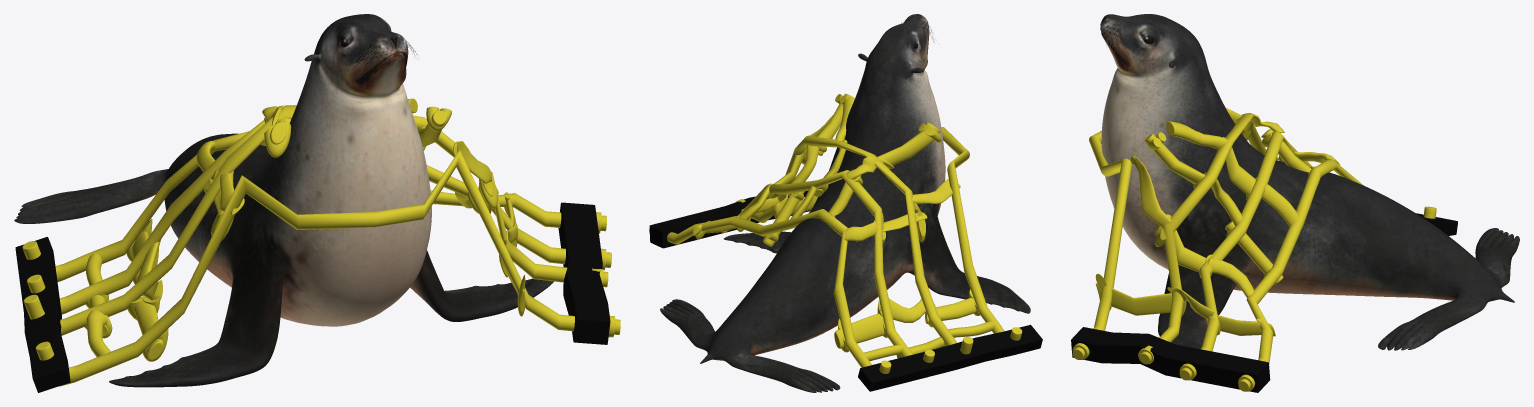
Rendered from sealion.fbx.
3 renders of one model, left to right at view 1: azimuth 30°, elevation 25°; view 2: azimuth 150°, elevation 25°; view 3: azimuth 270°, elevation 25°, orthographic. The views are drawn at different scales.
Visible parts, largest first — view 1: 10041_sealion_v1_L3, 18853 Cargo Net Ladder_v1; view 2: 10041_sealion_v1_L3, 18853 Cargo Net Ladder_v1; view 3: 10041_sealion_v1_L3, 18853 Cargo Net Ladder_v1.
Boxes of the visible parts, box(x1,y1,x2,y2) form: 10041_sealion_v1_L3: box(14, 14, 553, 387); 18853 Cargo Net Ladder_v1: box(15, 98, 620, 392); 10041_sealion_v1_L3: box(660, 14, 1030, 392); 18853 Cargo Net Ladder_v1: box(649, 93, 1042, 391); 10041_sealion_v1_L3: box(1100, 14, 1519, 350); 18853 Cargo Net Ladder_v1: box(1071, 107, 1457, 392).
Size of the model in its own units: 4.61 by 2.81 by 3.97.
Materials: 3 (1 with a texture image).
